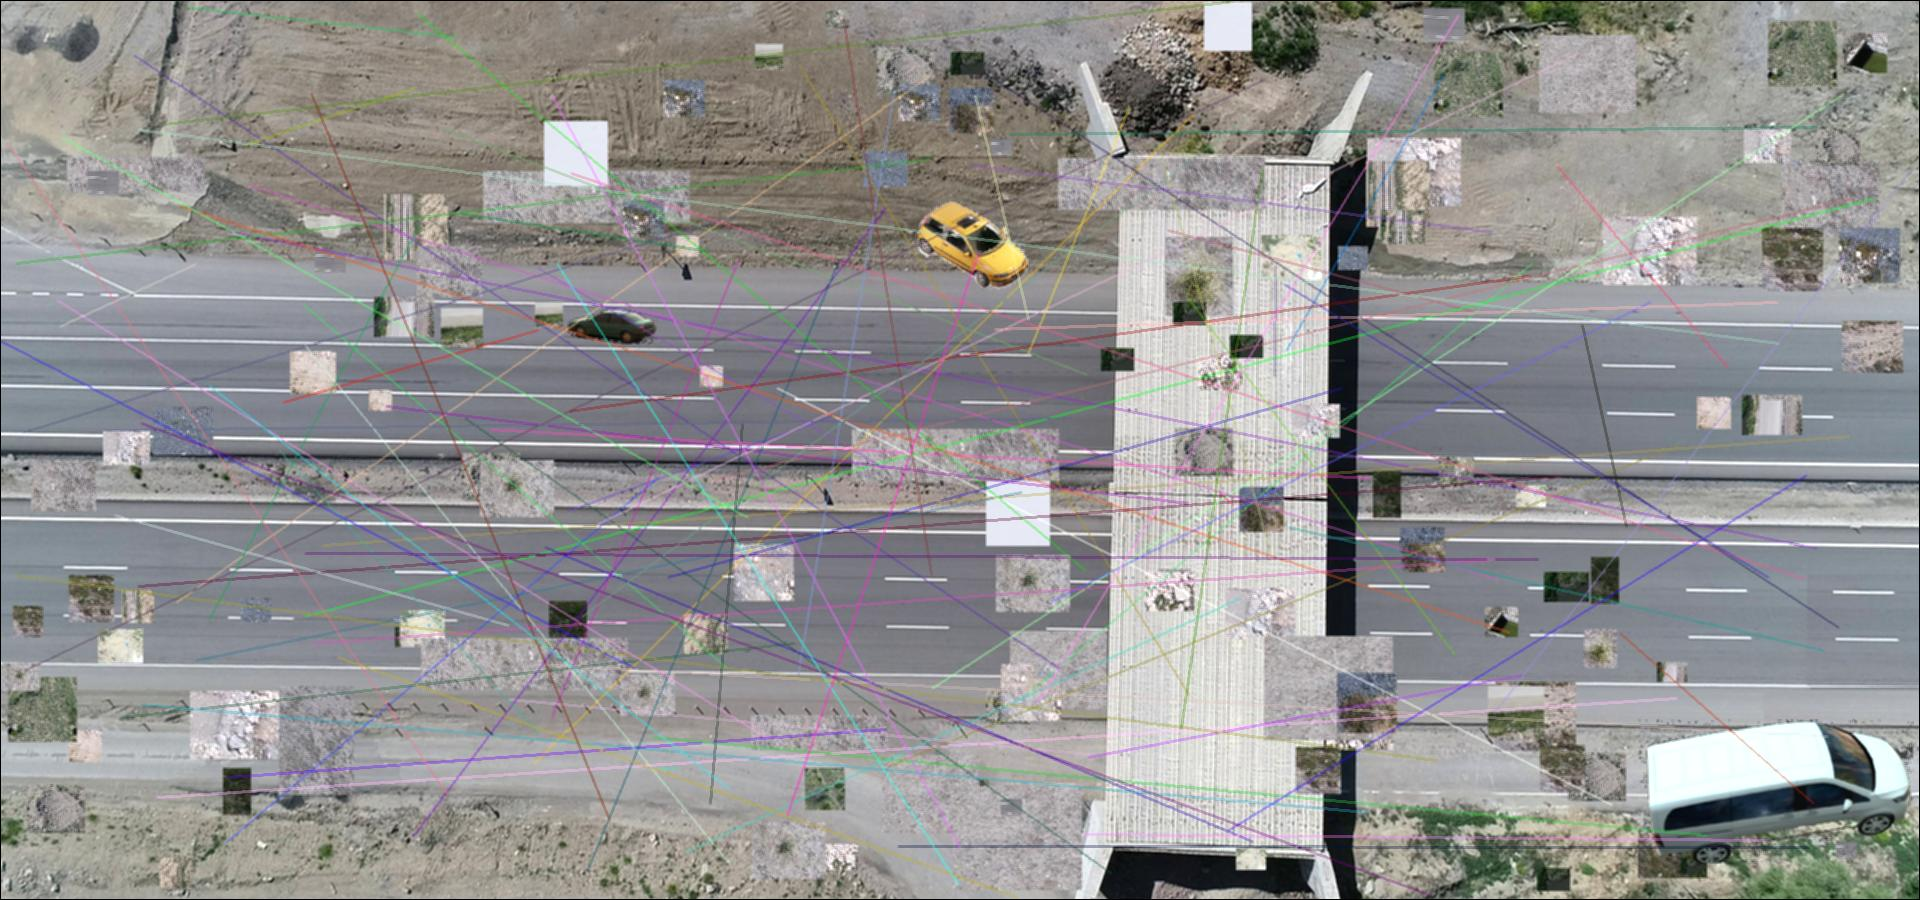arac: (1640, 720, 1913, 863), (918, 200, 1029, 290), (568, 307, 658, 344)
